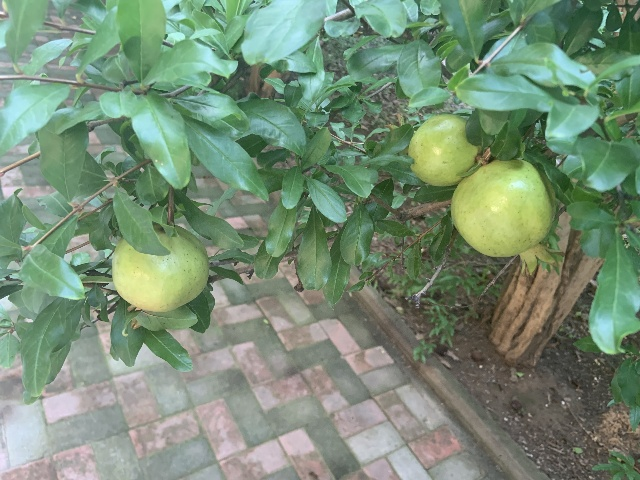mid-growth: (450, 159, 565, 278), (111, 225, 208, 329), (384, 113, 482, 186)
